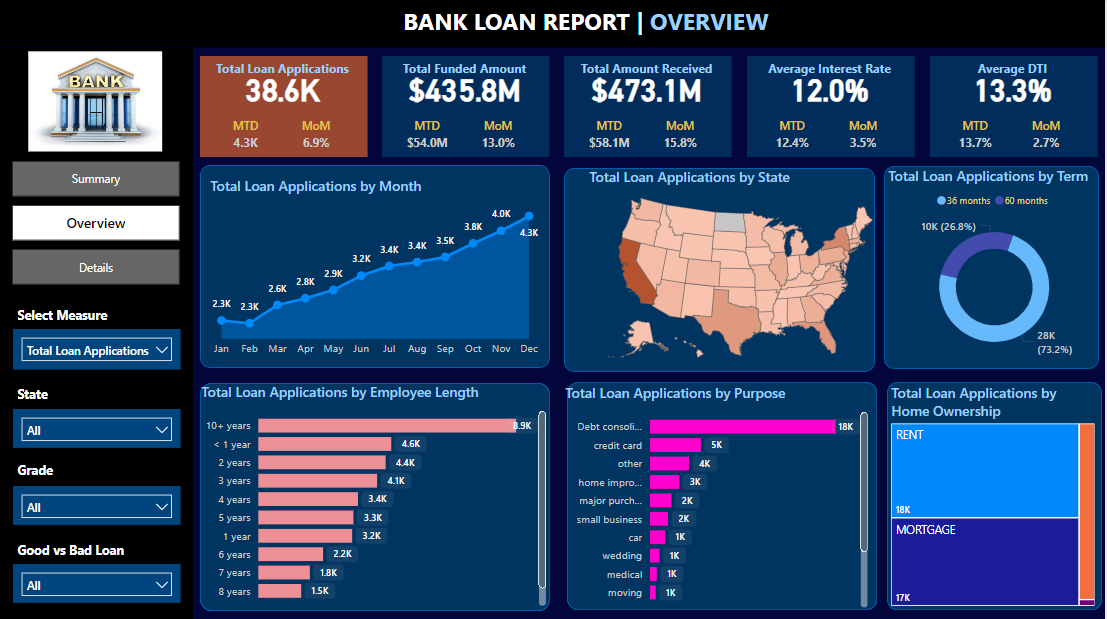

The dashboard page shown, as its layout file describes it:
{"tool":"powerbi","page":{"name":"Overview","canvas":[1280,720],"ordinal":1},"visuals":[{"type":"shape","box":[0,55.6,224.6,664.4],"z":0},{"type":"shape","box":[232.5,64.8,194.5,116.9],"z":0,"group":"g1"},{"type":"shape","box":[443.5,64.8,194.5,116.9],"z":0,"group":"g2"},{"type":"shape","box":[654.5,64.8,194.5,116.9],"z":0,"group":"g3"},{"type":"shape","box":[865.4,64.8,194.5,116.9],"z":0,"group":"g4"},{"type":"shape","box":[1077.3,64.8,194.5,116.9],"z":0,"group":"g5"},{"type":"card","fields":{"Values":["Measure Table.Total Loan Applications"]},"box":[235.9,78.7,184.1,45.1],"z":1000,"group":"g1"},{"type":"card","fields":{"Values":["Measure Table.Total Funded Amount"]},"box":[446.9,78.7,184.1,45.1],"z":1000,"group":"g2"},{"type":"card","fields":{"Values":["Measure Table.Total Amount Received"]},"box":[657.9,78.7,184.1,45.1],"z":1000,"group":"g3"},{"type":"card","fields":{"Values":["Measure Table.Average Interest Rate"]},"box":[868.8,78.7,184.1,45.1],"z":1000,"group":"g4"},{"type":"card","fields":{"Values":["Measure Table.Average DTI"]},"box":[1080.7,78.7,184.1,45.1],"z":1000,"group":"g5"},{"type":"shape","box":[233,190.6,405,235],"z":1000},{"type":"shape","box":[0,0,1280,55],"z":2000},{"type":"textbox","box":[229,64.8,197.9,32.4],"z":2000,"group":"g1"},{"type":"textbox","box":[440,64.8,197.9,32.4],"z":2000,"group":"g2"},{"type":"textbox","box":[651,64.8,197.9,32.4],"z":2000,"group":"g3"},{"type":"textbox","box":[861.9,64.8,197.9,32.4],"z":2000,"group":"g4"},{"type":"textbox","box":[1073.8,64.8,197.9,32.4],"z":2000,"group":"g5"},{"type":"textbox","box":[462.7,1.3,447.2,50.1],"z":3000},{"type":"card","title":"MTD","fields":{"Values":["Measure Table.MTD Loan Applications"]},"box":[260.3,136.6,49.8,45.1],"z":3000,"group":"g1"},{"type":"card","title":"MTD","fields":{"Values":["Measure Table.MTD Funded Amount"]},"box":[464.5,136.8,62.5,45.6],"z":3000,"group":"g2"},{"type":"card","title":"MTD","fields":{"Values":["Measure Table.MTD Total Amount Received"]},"box":[675.5,136.8,62.5,45.6],"z":3000,"group":"g3"},{"type":"card","title":"MTD","fields":{"Values":["Measure Table.MTD Average Interest Rate"]},"box":[886.4,136.8,62.5,45.6],"z":3000,"group":"g4"},{"type":"card","title":"MTD","fields":{"Values":["Measure Table.MTD Average DTI"]},"box":[1098.3,136.8,62.5,45.6],"z":3000,"group":"g5"},{"type":"group","id":"g1","title":"Total Loan Applications Card","box":[229,64.8,197.9,115.9],"z":4000},{"type":"card","title":"MoM","fields":{"Values":["Measure Table.MoM Loan Application"]},"box":[341,136.8,50.8,44.3],"z":4000,"group":"g1"},{"type":"card","title":"MoM","fields":{"Values":["Measure Table.MoM Total Funded Amount"]},"box":[552,136.8,50.8,44.3],"z":4000,"group":"g2"},{"type":"card","title":"MoM","fields":{"Values":["Measure Table.MoM Total Amount Received"]},"box":[763,136.8,50.8,44.3],"z":4000,"group":"g3"},{"type":"card","title":"MoM","fields":{"Values":["Measure Table.MoM Average Interest Rate"]},"box":[973.9,136.8,50.8,44.3],"z":4000,"group":"g4"},{"type":"card","title":"MoM","fields":{"Values":["Measure Table.MoM Average DTI"]},"box":[1185.8,136.8,50.8,44.3],"z":4000,"group":"g5"},{"type":"group","id":"g2","title":"Total Funded Amount","box":[440,64.8,197.9,117.6],"z":5000},{"type":"group","id":"g3","title":"Total Amount Received","box":[651,64.8,197.9,117.2],"z":6000},{"type":"group","id":"g4","title":"Average Interest Rate","box":[861.9,64.8,198.8,117.4],"z":7000},{"type":"group","id":"g5","title":"DTI","box":[1073.8,64.8,198.8,117.4],"z":8000},{"type":"slicer","fields":{"Values":["bank_loan_data.address_state"]},"box":[15.6,473,194.5,45.1],"z":9000},{"type":"textbox","box":[15.6,440.6,57.9,31.3],"z":10000},{"type":"slicer","fields":{"Values":["bank_loan_data.grade"]},"box":[15.6,562.1,194.5,45.1],"z":11000},{"type":"slicer","fields":{"Values":["bank_loan_data.Good Loan vs Bad Loan"]},"box":[15.6,652.4,194.5,45.1],"z":12000},{"type":"textbox","box":[15.6,528.5,66,31.3],"z":13000},{"type":"textbox","box":[15.6,621.1,160.9,31.3],"z":14000},{"type":"areaChart","fields":{"Y":["Summary Measure Table.Total Loan Applications"],"Category":["Date Table.Month"]},"box":[239.1,204,391.9,217.5],"z":15000},{"type":"slicer","fields":{"Values":["Select Measure.Select Measure"]},"box":[15.6,380.4,194.5,47.5],"z":16000},{"type":"textbox","box":[15.6,349.1,132,31.3],"z":17000},{"type":"group","id":"g6","title":"Group 1","box":[654,193.3,383.2,237.3],"z":18000},{"type":"shape","box":[654,194.3,360,236.1],"z":18000,"group":"g6"},{"type":"shapeMap","fields":{"Value":["Summary Measure Table.Total Loan Applications"],"Category":["bank_loan_data.address_state"]},"box":[678.2,193.3,359.4,235.7],"z":19000,"group":"g6"},{"type":"shape","box":[657.6,442.7,359.4,264.3],"z":19000},{"type":"shape","box":[1024.4,192.2,248.9,235],"z":20000},{"type":"donutChart","fields":{"Y":["Summary Measure Table.Total Loan Applications"],"Category":["bank_loan_data.term"]},"box":[1024.8,192.7,255.2,231.8],"z":21000},{"type":"shape","box":[232.7,443.3,405.1,263.9],"z":22000},{"type":"barChart","fields":{"Y":["Summary Measure Table.Total Loan Applications"],"Category":["bank_loan_data.emp_length"]},"box":[229.2,442.7,408.9,264.3],"z":23000},{"type":"barChart","fields":{"Y":["Summary Measure Table.Total Loan Applications"],"Category":["bank_loan_data.purpose"]},"box":[650.5,443.3,360,265.1],"z":24000},{"type":"shape","box":[1027.4,442.7,248.7,264.3],"z":25000},{"type":"treemap","fields":{"Values":["Summary Measure Table.Total Loan Applications"],"Group":["bank_loan_data.home_ownership"]},"box":[1027.9,443.3,245.4,262.8],"z":26000},{"type":"pageNavigator","box":[15.6,186.2,194,145.8],"z":27000},{"type":"image","box":[14.3,54.7,195.3,126.3],"z":28000}]}

Visuals, with their boxes in screenshot pixels (x1, y1, x2, y2), scaled from the page's 1280x720 canvas onto the 1107x619 screenshot:
shape: {"x1": 0, "y1": 48, "x2": 194, "y2": 618}
shape: {"x1": 201, "y1": 56, "x2": 369, "y2": 156}
shape: {"x1": 384, "y1": 56, "x2": 552, "y2": 156}
shape: {"x1": 566, "y1": 56, "x2": 734, "y2": 156}
shape: {"x1": 748, "y1": 56, "x2": 917, "y2": 156}
shape: {"x1": 932, "y1": 56, "x2": 1100, "y2": 156}
card - Measure Table.Total Loan Applications: {"x1": 204, "y1": 68, "x2": 363, "y2": 106}
card - Measure Table.Total Funded Amount: {"x1": 386, "y1": 68, "x2": 546, "y2": 106}
card - Measure Table.Total Amount Received: {"x1": 569, "y1": 68, "x2": 728, "y2": 106}
card - Measure Table.Average Interest Rate: {"x1": 751, "y1": 68, "x2": 911, "y2": 106}
card - Measure Table.Average DTI: {"x1": 935, "y1": 68, "x2": 1094, "y2": 106}
shape: {"x1": 202, "y1": 164, "x2": 552, "y2": 366}
shape: {"x1": 0, "y1": 0, "x2": 1106, "y2": 47}
textbox: {"x1": 198, "y1": 56, "x2": 369, "y2": 84}
textbox: {"x1": 381, "y1": 56, "x2": 552, "y2": 84}
textbox: {"x1": 563, "y1": 56, "x2": 734, "y2": 84}
textbox: {"x1": 745, "y1": 56, "x2": 917, "y2": 84}
textbox: {"x1": 929, "y1": 56, "x2": 1100, "y2": 84}
textbox: {"x1": 400, "y1": 1, "x2": 787, "y2": 44}
"MTD" card: {"x1": 225, "y1": 117, "x2": 268, "y2": 156}
"MTD" card: {"x1": 402, "y1": 118, "x2": 456, "y2": 157}
"MTD" card: {"x1": 584, "y1": 118, "x2": 638, "y2": 157}
"MTD" card: {"x1": 767, "y1": 118, "x2": 821, "y2": 157}
"MTD" card: {"x1": 950, "y1": 118, "x2": 1004, "y2": 157}
"Total Loan Applications Card" group: {"x1": 198, "y1": 56, "x2": 369, "y2": 155}
"MoM" card: {"x1": 295, "y1": 118, "x2": 339, "y2": 156}
"MoM" card: {"x1": 477, "y1": 118, "x2": 521, "y2": 156}
"MoM" card: {"x1": 660, "y1": 118, "x2": 704, "y2": 156}
"MoM" card: {"x1": 842, "y1": 118, "x2": 886, "y2": 156}
"MoM" card: {"x1": 1026, "y1": 118, "x2": 1069, "y2": 156}
"Total Funded Amount" group: {"x1": 381, "y1": 56, "x2": 552, "y2": 157}
"Total Amount Received" group: {"x1": 563, "y1": 56, "x2": 734, "y2": 156}
"Average Interest Rate" group: {"x1": 745, "y1": 56, "x2": 917, "y2": 157}
"DTI" group: {"x1": 929, "y1": 56, "x2": 1101, "y2": 157}
slicer - bank_loan_data.address_state: {"x1": 13, "y1": 407, "x2": 182, "y2": 445}
textbox: {"x1": 13, "y1": 379, "x2": 64, "y2": 406}
slicer - bank_loan_data.grade: {"x1": 13, "y1": 483, "x2": 182, "y2": 522}
slicer - bank_loan_data.Good Loan vs Bad Loan: {"x1": 13, "y1": 561, "x2": 182, "y2": 600}
textbox: {"x1": 13, "y1": 454, "x2": 71, "y2": 481}
textbox: {"x1": 13, "y1": 534, "x2": 153, "y2": 561}
areaChart - Summary Measure Table.Total Loan Applications x Date Table.Month: {"x1": 207, "y1": 175, "x2": 546, "y2": 362}
slicer - Select Measure.Select Measure: {"x1": 13, "y1": 327, "x2": 182, "y2": 368}
textbox: {"x1": 13, "y1": 300, "x2": 128, "y2": 327}
"Group 1" group: {"x1": 566, "y1": 166, "x2": 897, "y2": 370}
shape: {"x1": 566, "y1": 167, "x2": 877, "y2": 370}
shapeMap - Summary Measure Table.Total Loan Applications x bank_loan_data.address_state: {"x1": 587, "y1": 166, "x2": 897, "y2": 369}
shape: {"x1": 569, "y1": 381, "x2": 880, "y2": 608}
shape: {"x1": 886, "y1": 165, "x2": 1101, "y2": 367}
donutChart - Summary Measure Table.Total Loan Applications x bank_loan_data.term: {"x1": 886, "y1": 166, "x2": 1106, "y2": 365}
shape: {"x1": 201, "y1": 381, "x2": 552, "y2": 608}
barChart - Summary Measure Table.Total Loan Applications x bank_loan_data.emp_length: {"x1": 198, "y1": 381, "x2": 552, "y2": 608}
barChart - Summary Measure Table.Total Loan Applications x bank_loan_data.purpose: {"x1": 563, "y1": 381, "x2": 874, "y2": 609}
shape: {"x1": 889, "y1": 381, "x2": 1104, "y2": 608}
treemap - Summary Measure Table.Total Loan Applications x bank_loan_data.home_ownership: {"x1": 889, "y1": 381, "x2": 1101, "y2": 607}
pageNavigator: {"x1": 13, "y1": 160, "x2": 181, "y2": 285}
image: {"x1": 12, "y1": 47, "x2": 181, "y2": 156}
